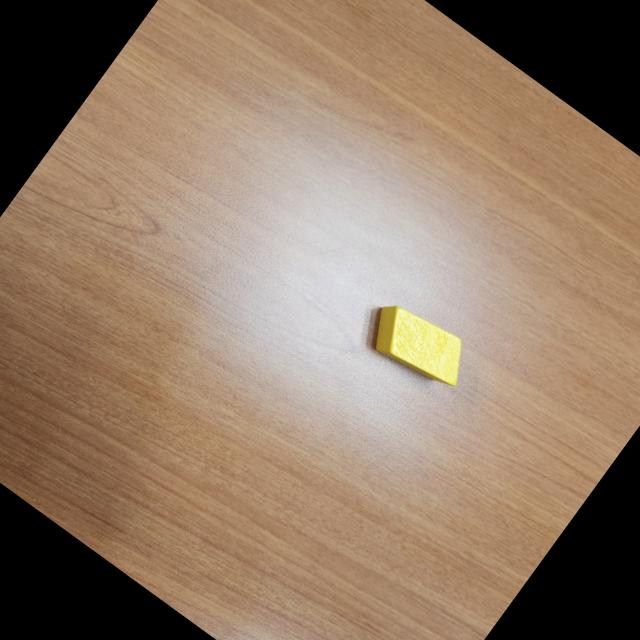yellow: (355, 290, 479, 402)
